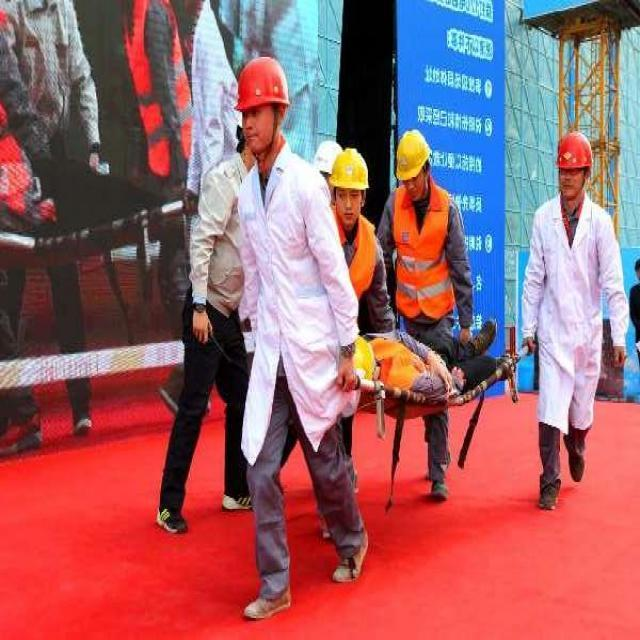reflective_jacket: (391, 185, 453, 321), (317, 201, 383, 309)
safety_helmet: (234, 54, 290, 114), (394, 128, 430, 182), (330, 146, 369, 190), (553, 129, 591, 171), (0, 93, 12, 133)
